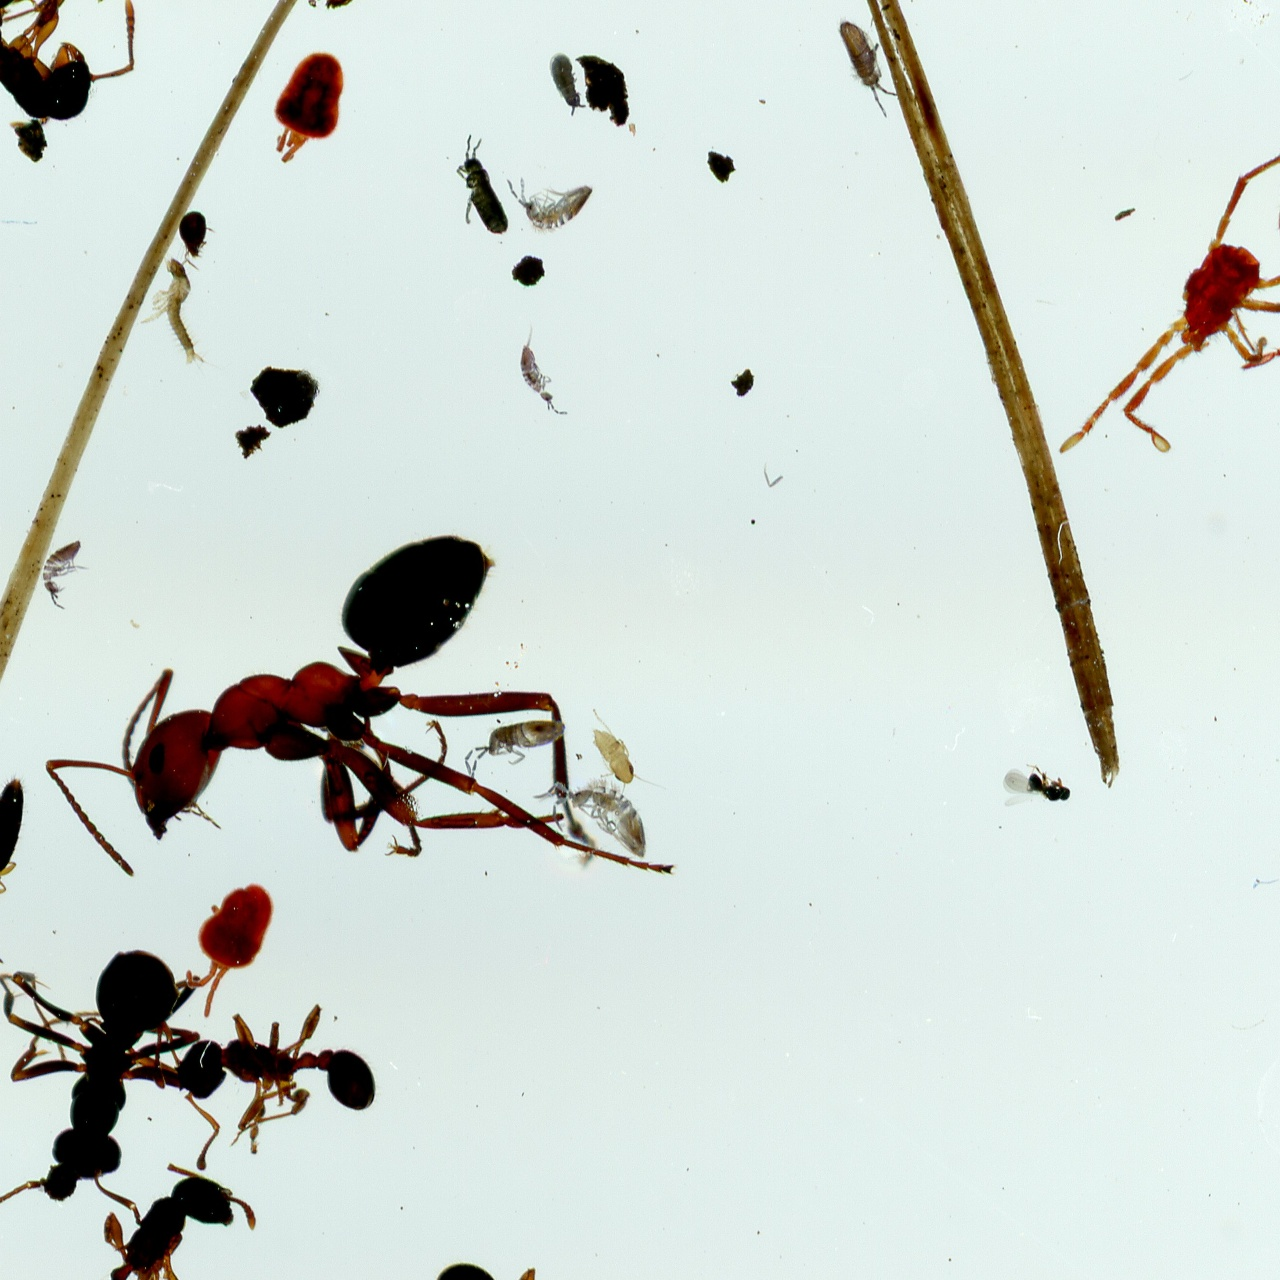arthropod: (30, 444, 743, 1152), (1022, 127, 1280, 557), (0, 902, 226, 1265), (155, 999, 384, 1173), (27, 1128, 279, 1280), (357, 1212, 665, 1280), (0, 0, 142, 147), (174, 866, 288, 1032), (257, 37, 364, 180), (569, 692, 673, 816), (0, 747, 55, 973), (820, 0, 914, 128), (139, 252, 227, 378), (439, 126, 520, 253), (530, 775, 650, 860), (500, 313, 571, 428), (463, 715, 567, 781), (994, 759, 1083, 828), (505, 174, 599, 236), (539, 45, 592, 126), (37, 533, 90, 614), (178, 209, 219, 272)
